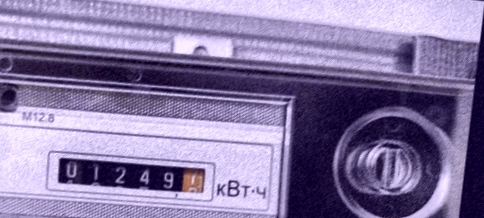0: (63, 157, 79, 179)
1: (88, 160, 101, 180)
2: (112, 163, 127, 185)
4: (137, 165, 150, 185)
7: (185, 166, 200, 186)
9: (160, 168, 175, 190)
screen: (36, 141, 215, 207)
